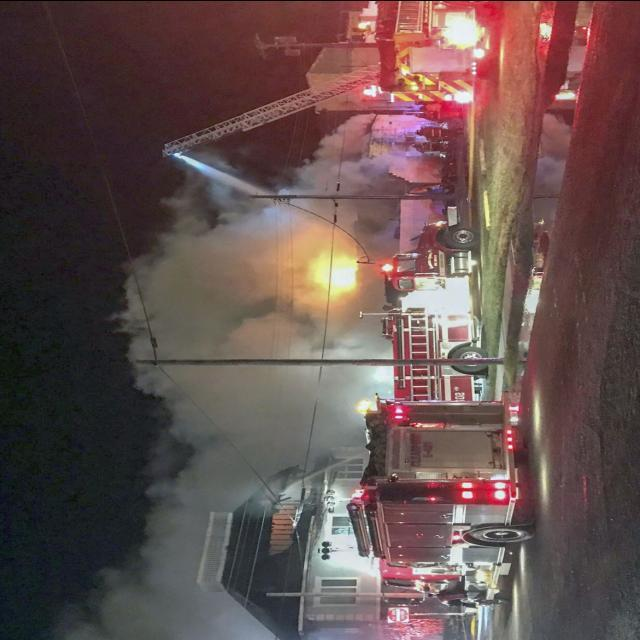Fire: (294, 245, 368, 297)
